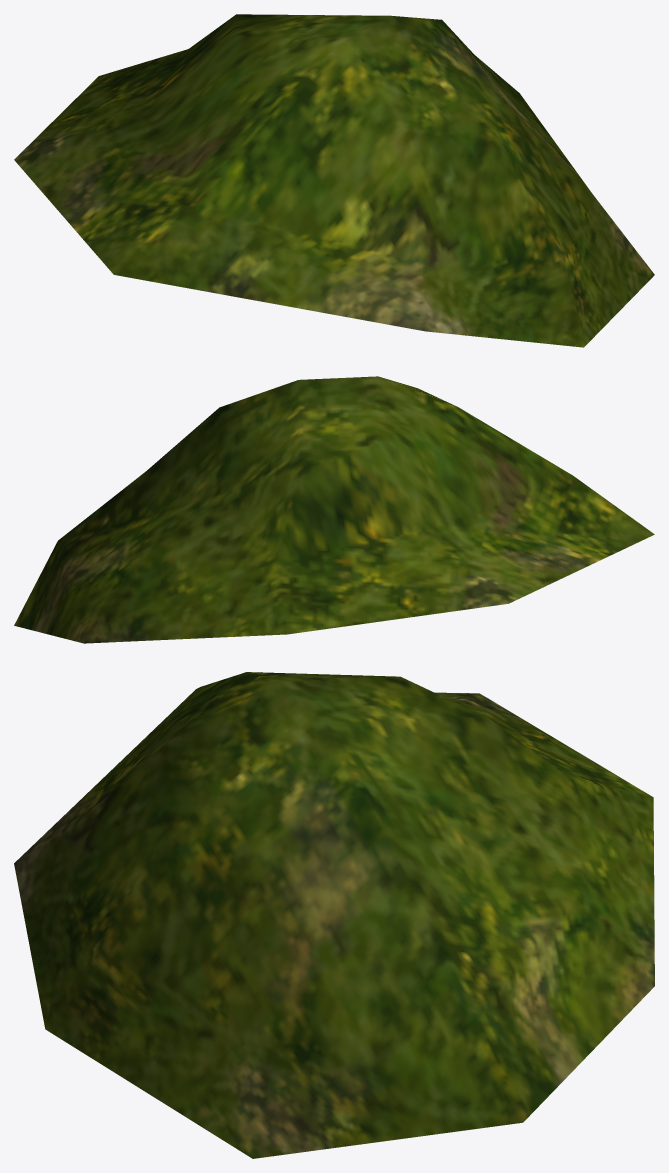
Rendered from OVERHILL_A_01_BR_ROCK201.fbx.
3 views of the same model, one above another, from view 1: azimuth 30°, elevation 25°; view 2: azimuth 150°, elevation 25°; view 3: azimuth 270°, elevation 25° (orthographic). The views are drawn at different scales.
Visible parts, largest first — view 1: OVERHILL_A_01_BR_ROCK201; view 2: OVERHILL_A_01_BR_ROCK201; view 3: OVERHILL_A_01_BR_ROCK201.
Boxes of the visible parts, box(x1,y1,x2,y2) form: OVERHILL_A_01_BR_ROCK201: box(14, 14, 654, 347); OVERHILL_A_01_BR_ROCK201: box(14, 376, 654, 643); OVERHILL_A_01_BR_ROCK201: box(14, 672, 654, 1158).
Bounding box in the file's own units: 10971 × 5462 × 9930.
Materials: 1 (1 with a texture image).
